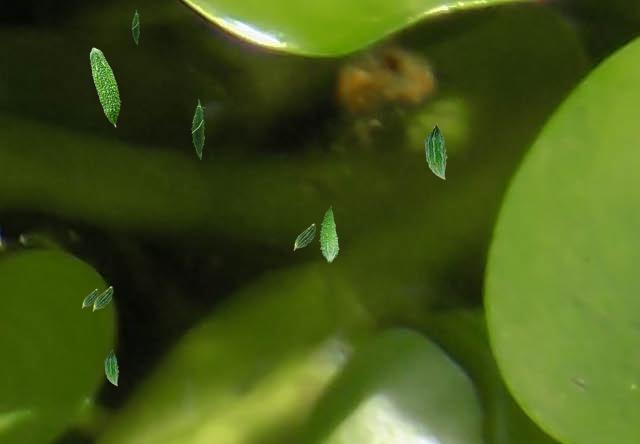ampalaya: (89, 47, 121, 127), (424, 122, 447, 179), (318, 205, 339, 263), (190, 99, 206, 160), (293, 223, 316, 250), (104, 349, 119, 386), (92, 286, 113, 311), (81, 288, 98, 308), (131, 9, 140, 45)
